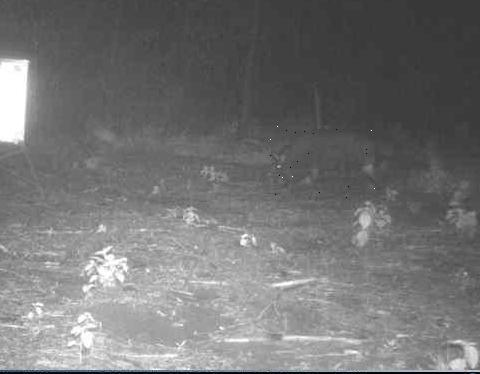Hog: (264, 126, 375, 199)
